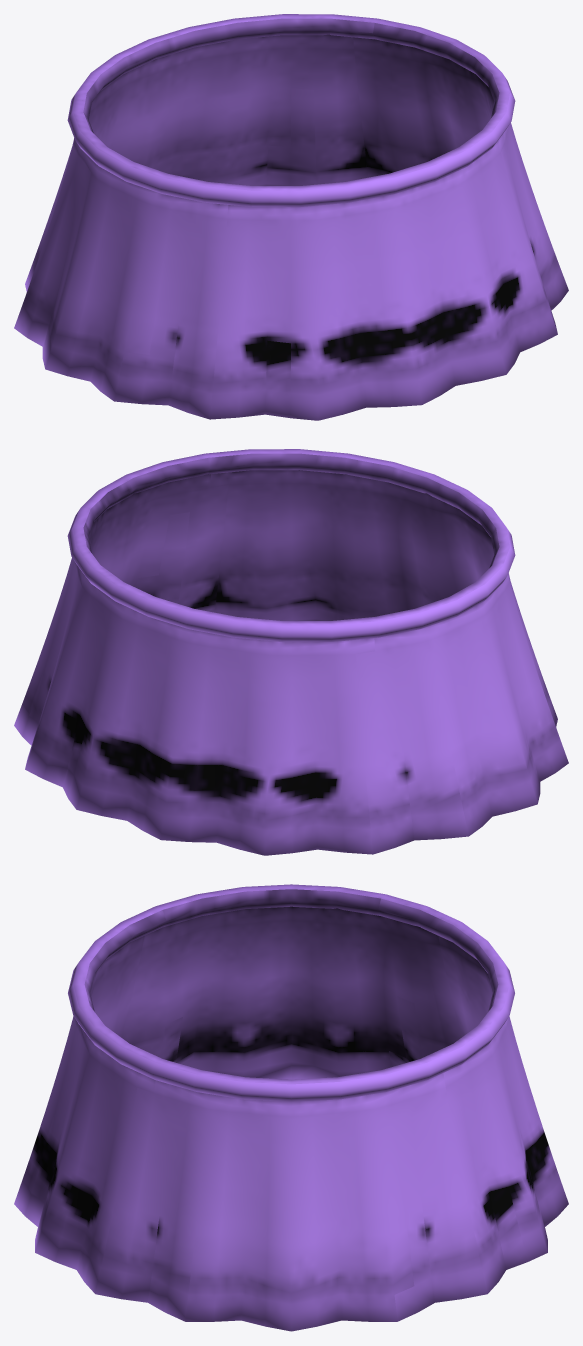
Rendered from legs_skirt.glb.
The picture shows the model from 3 angles, top to bottom: view 1: azimuth 30°, elevation 25°; view 2: azimuth 150°, elevation 25°; view 3: azimuth 270°, elevation 25°; orthographic projection. The views are drawn at different scales.
Parts seen in each view (by area): view 1: legs_skirt; view 2: legs_skirt; view 3: legs_skirt.
Part boxes in pixels (x1,y1,x2,y2): legs_skirt: (14,14,568,420); legs_skirt: (14,449,568,855); legs_skirt: (14,884,568,1331).
Bounding box in the file's own units: 0.7 × 0.2838 × 0.644.
Materials: 1 (1 with a texture image).
